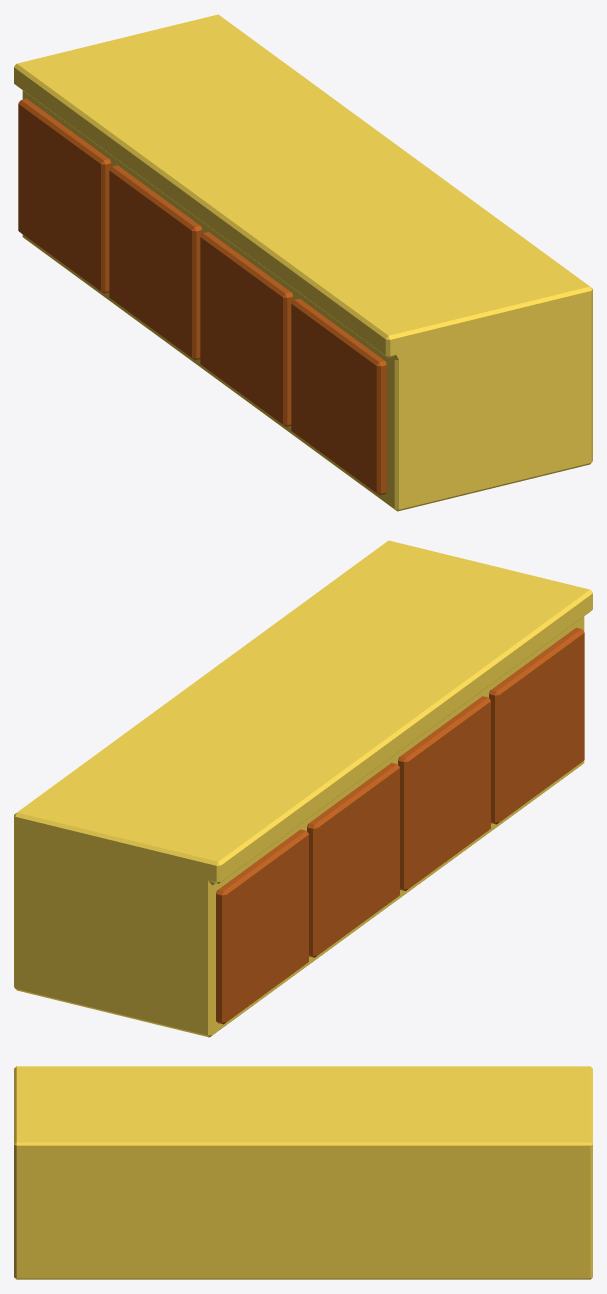
Rendered from TVCabinet_01.glb.
3 renders of one model, top to bottom at view 1: azimuth 30°, elevation 25°; view 2: azimuth 150°, elevation 25°; view 3: azimuth 270°, elevation 25°, orthographic. The views are drawn at different scales.
Visible parts, largest first — view 1: TV Cabinet; view 2: TV Cabinet; view 3: TV Cabinet.
Boxes of the visible parts, left/top/right/bottom form: TV Cabinet: left=14, top=14, right=592, bottom=511; TV Cabinet: left=14, top=540, right=592, bottom=1037; TV Cabinet: left=14, top=1066, right=592, bottom=1279.
Size of the model in its own units: 0.7326 by 0.5998 by 2.29.
Materials: 1 (1 with a texture image).
